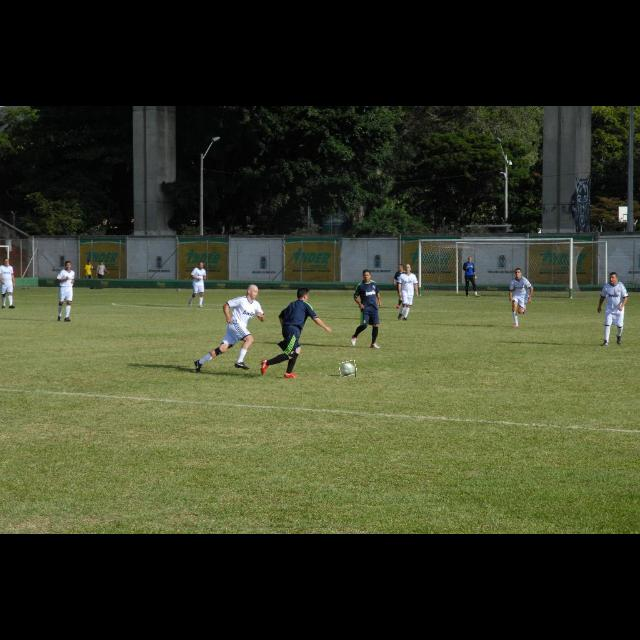Football: (340, 361, 356, 377)
